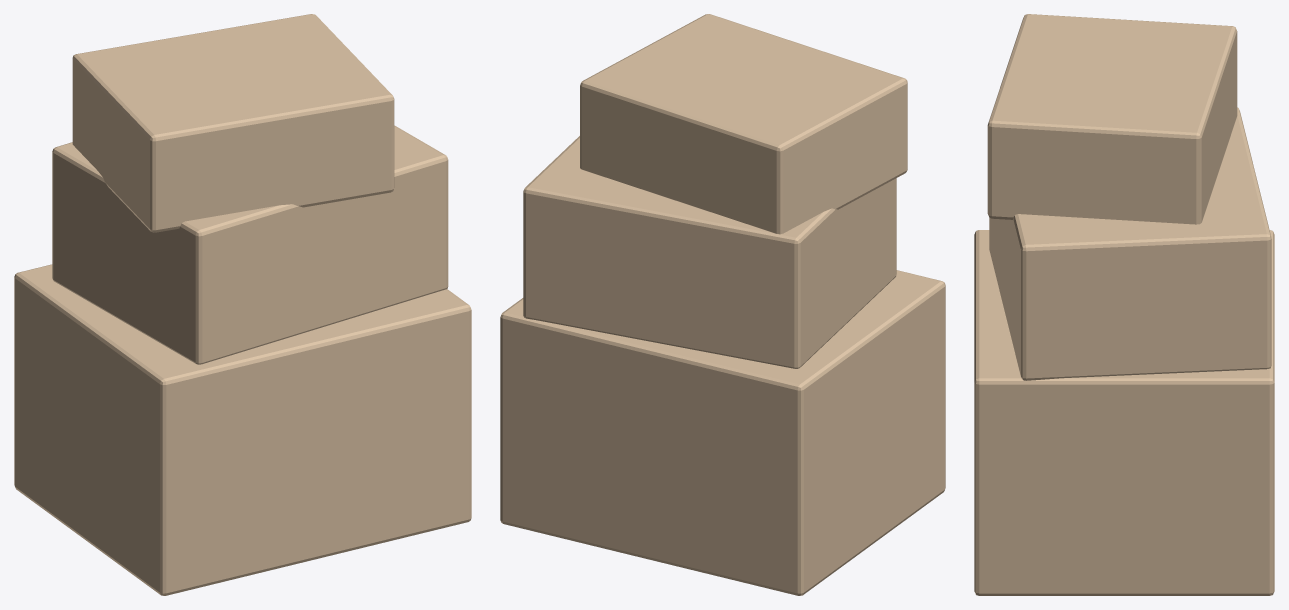
Rendered from gift_crate.glb.
3 views of the same model, side by side, from view 1: azimuth 30°, elevation 25°; view 2: azimuth 150°, elevation 25°; view 3: azimuth 270°, elevation 25° (orthographic). The views are drawn at different scales.
Parts seen in each view (by area): view 1: cardboard_boxes_stack; view 2: cardboard_boxes_stack; view 3: cardboard_boxes_stack.
Part boxes in pixels (<box>): cardboard_boxes_stack: <box>14,14,471,595</box>; cardboard_boxes_stack: <box>500,14,945,595</box>; cardboard_boxes_stack: <box>974,14,1274,595</box>.
Bounding box in the file's own units: 0.6 × 0.81 × 0.5.
